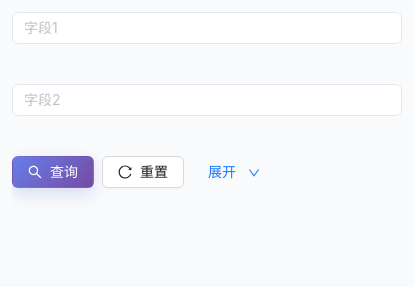
Test: SearchForm 组件 › 展开/收起功能 › 点击展开按钮应该显示所有表单项
Expected: the field with placeholder "字段3" is not shown
What coordinates should you click on to do the following:
click the button "展开"
I would click on:
 (234, 172)
Its box is [192,156,276,188].
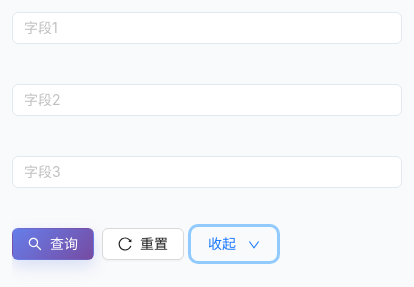
Expected: the field with placeholder "字段3" is shown, [12,156,402,188]
Expected: the button "收起" is shown, [192,228,276,260]
